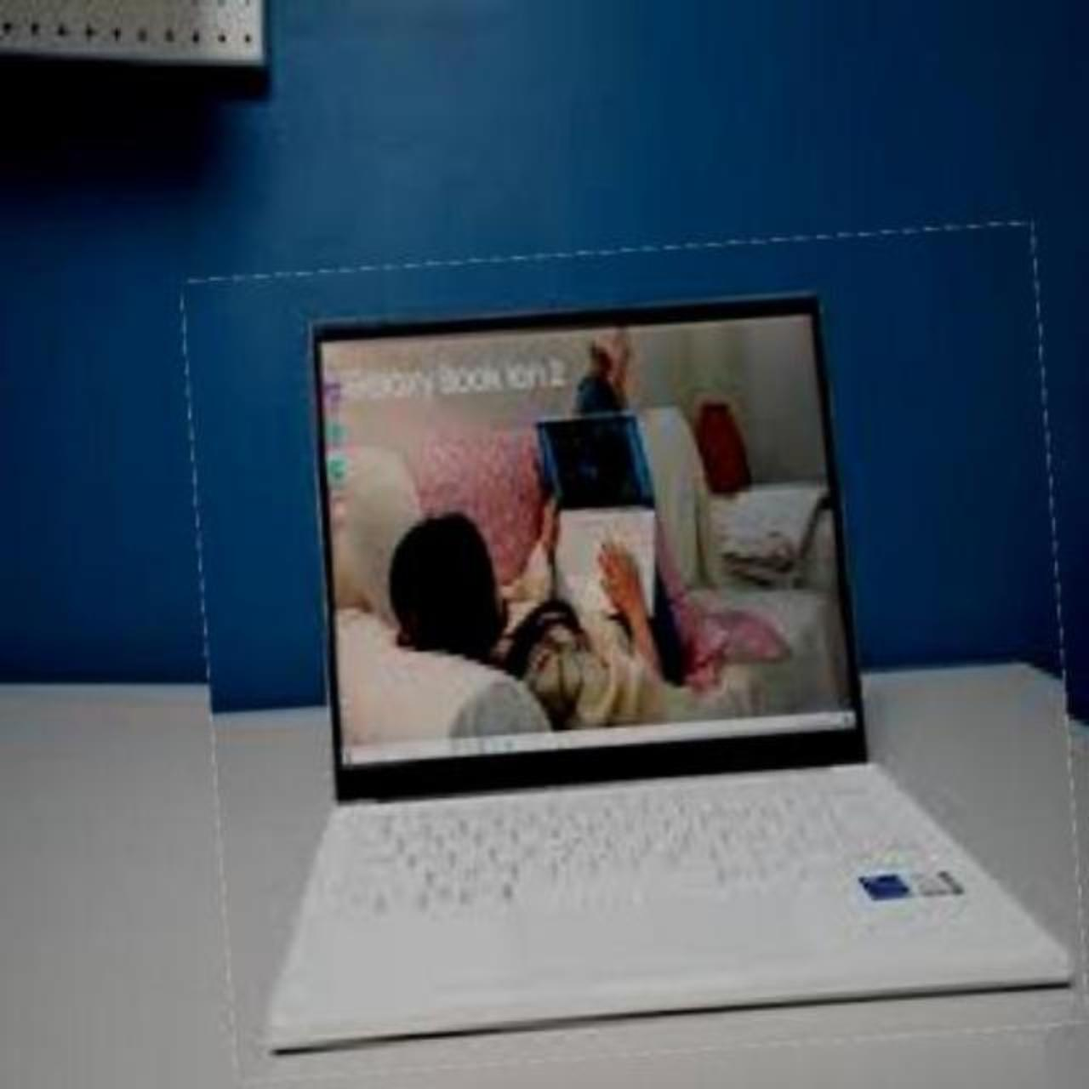laptop: (196, 236, 1074, 1068)
